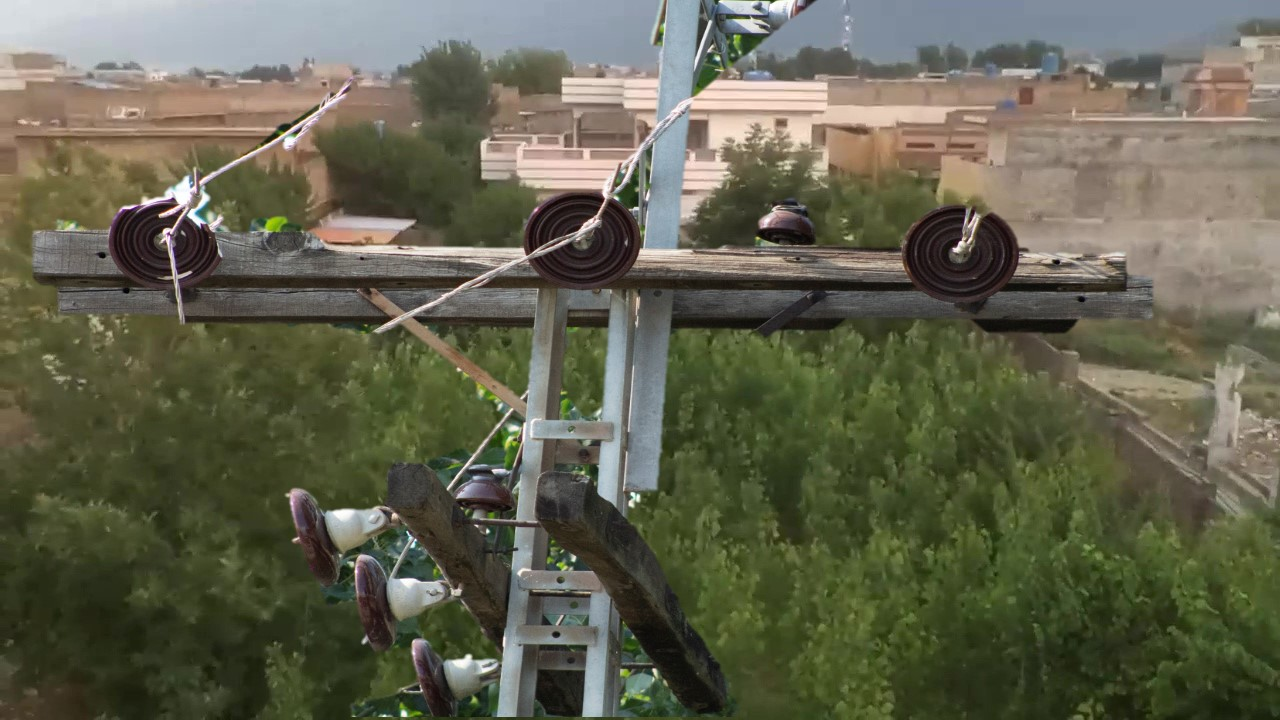defect_disc: (107, 186, 231, 300)
insulator_disc: (516, 180, 649, 294), (902, 199, 1023, 309), (276, 479, 352, 588), (346, 559, 439, 643), (393, 632, 490, 709)
insulator_pin: (450, 451, 518, 519), (748, 192, 824, 250)
